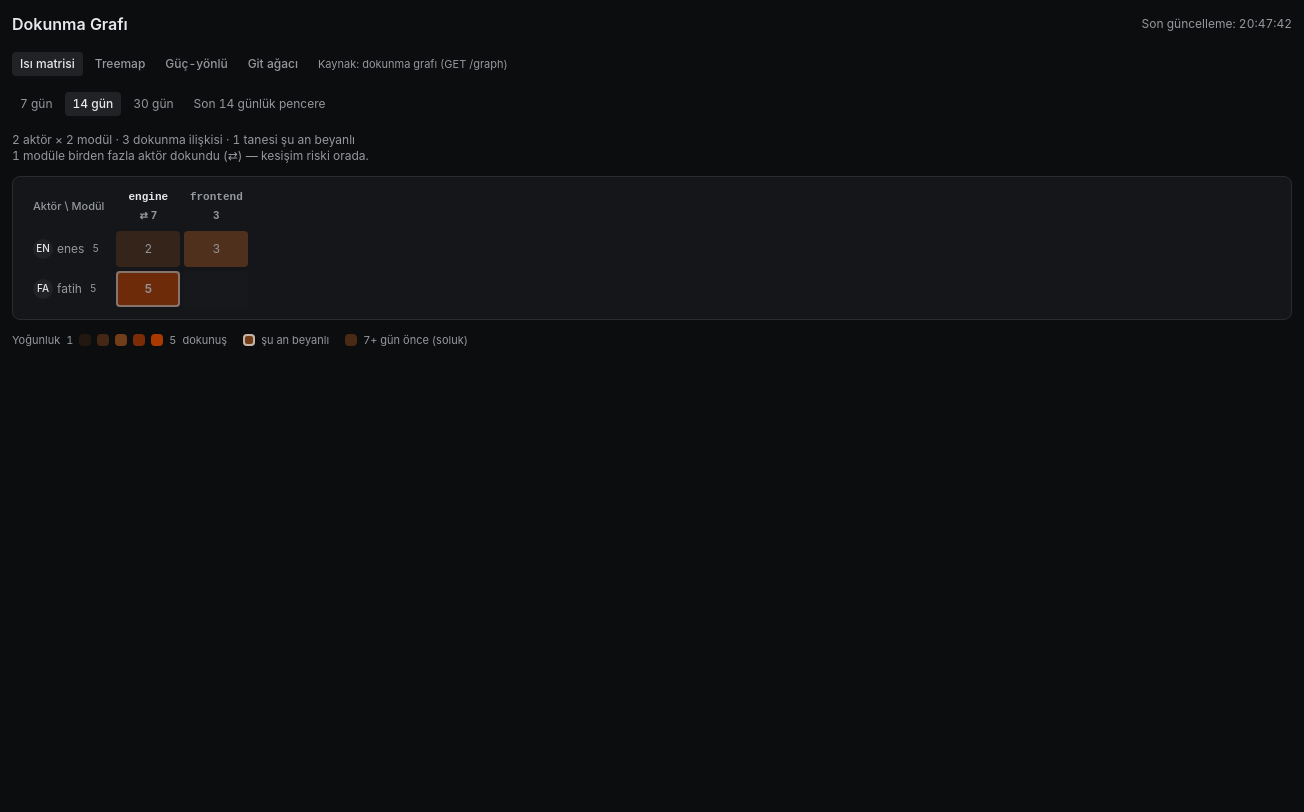
Test: GraphPage — treemap modül detay paneli › modül kutusuna tıklayınca kim-dokunuyor paneli açılır
The image size is (1304, 812).
Click the tab "Treemap" at (120, 64), box [87, 52, 153, 76]
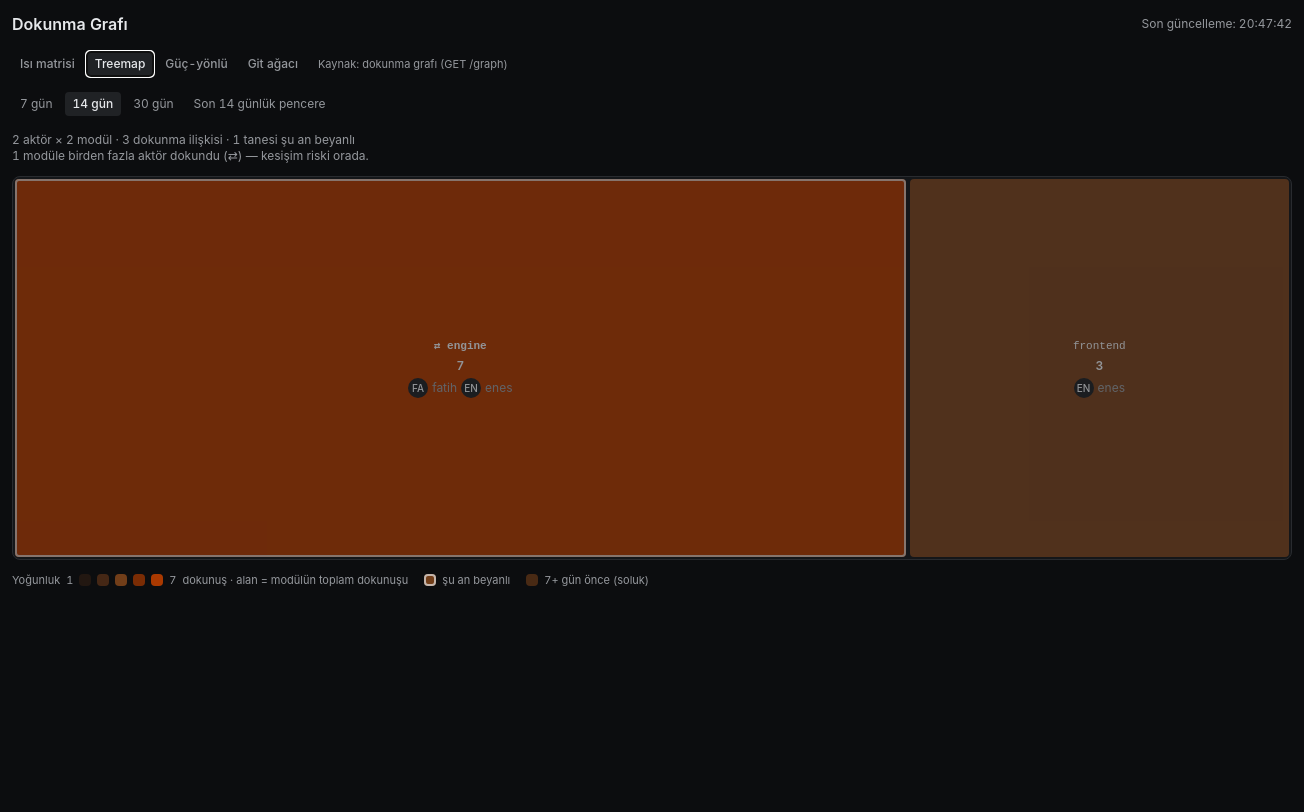
Click the button titled "engine: 7 dokunuş" at (460, 368), box [13, 177, 908, 559]
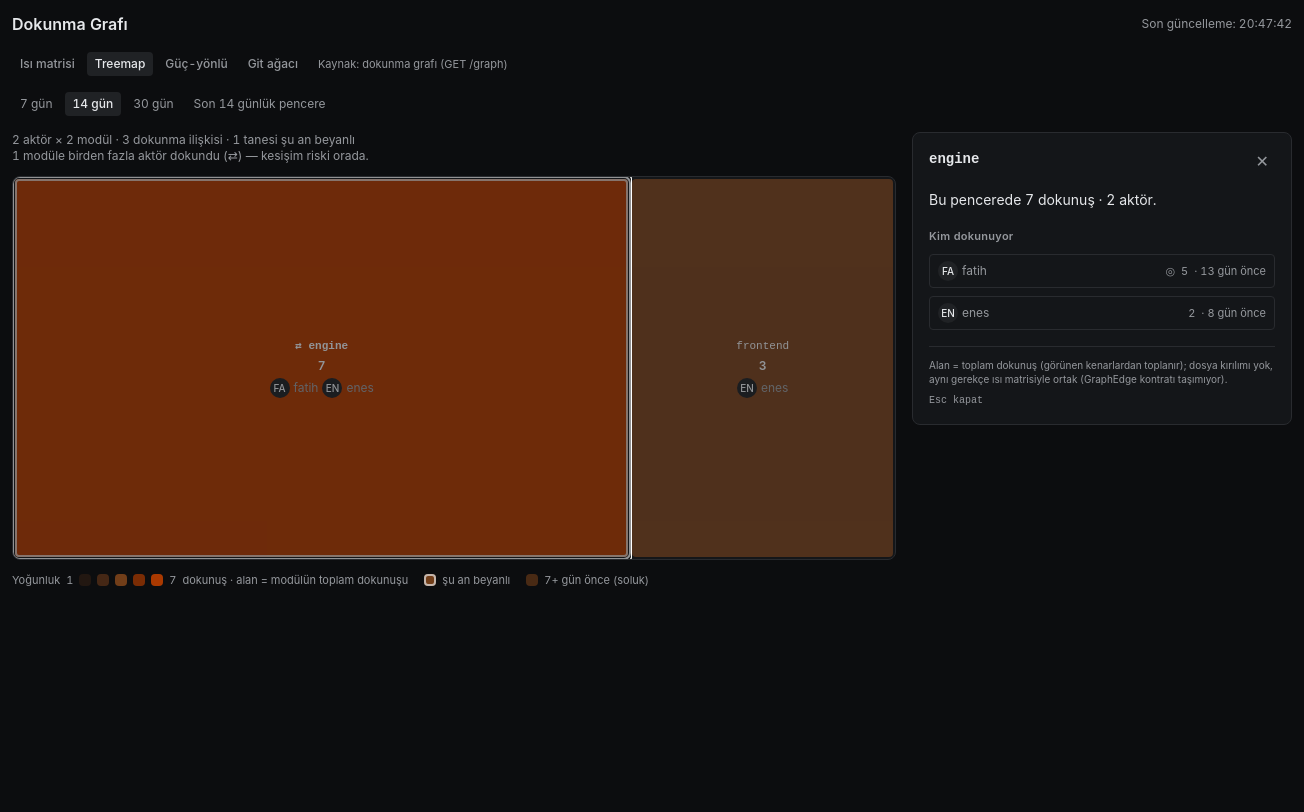
Result: the text "engine" is shown at [929, 149, 979, 169]
Result: the text "fatih" in the row of "13 gün önce" is shown at [962, 263, 987, 278]
Result: the text "enes" in the row of "8 gün önce" is shown at [962, 305, 989, 320]
